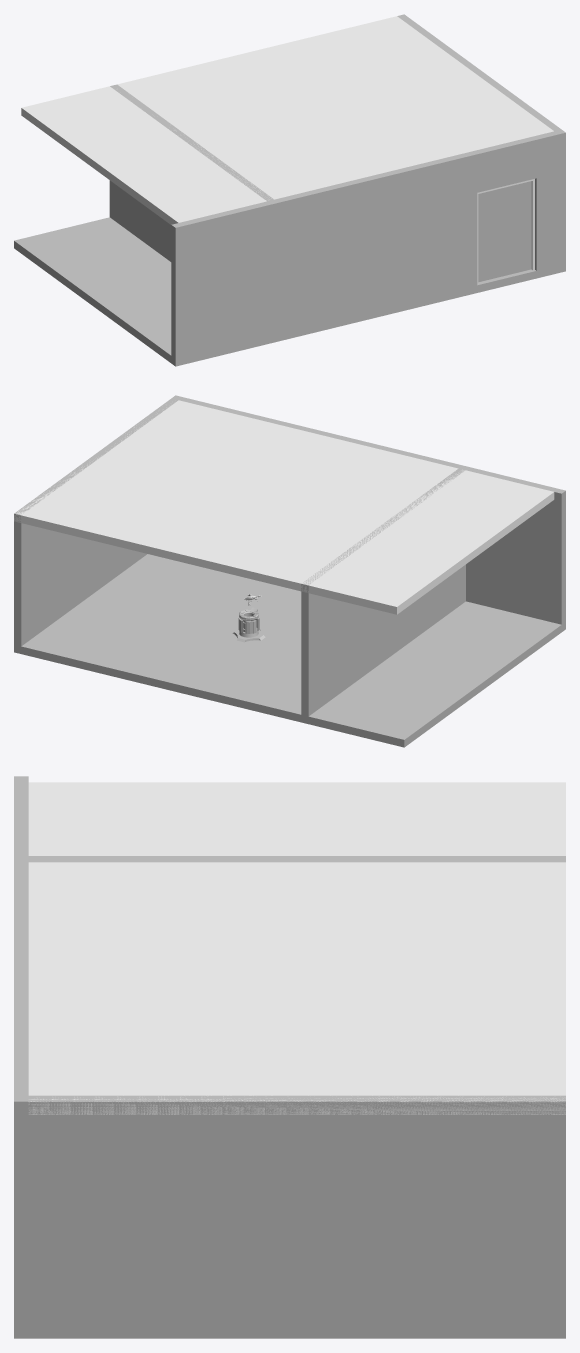
File: Scene_Wallpaper.fbx
3 renders of one model, top to bottom at view 1: azimuth 30°, elevation 25°; view 2: azimuth 150°, elevation 25°; view 3: azimuth 270°, elevation 25°, orthographic. The views are drawn at different scales.
Visible parts, largest first — view 1: UModelerX_Object_3, UModelerX_Object_1, UModelerX_Object, UModelerX_Object_2, door, Jamb; view 2: UModelerX_Object_3, UModelerX_Object, UModelerX_Object_2, UModelerX_Object_1; view 3: UModelerX_Object_3, UModelerX_Object_2, UModelerX_Object_1, UModelerX_Object.
Part boxes in pixels (x1,y1,x2,y2): UModelerX_Object_3: [21, 16, 553, 224]; UModelerX_Object_1: [171, 129, 565, 358]; UModelerX_Object: [14, 217, 565, 366]; UModelerX_Object_2: [109, 14, 561, 261]; door: [478, 181, 531, 282]; Jamb: [477, 179, 534, 283]; UModelerX_Object_3: [14, 400, 554, 614]; UModelerX_Object: [14, 554, 565, 747]; UModelerX_Object_2: [14, 398, 465, 716]; UModelerX_Object_1: [171, 395, 565, 624]; UModelerX_Object_3: [28, 782, 565, 1114]; UModelerX_Object_2: [28, 856, 565, 1325]; UModelerX_Object_1: [14, 776, 28, 1325]; UModelerX_Object: [14, 1325, 565, 1338].
Bounding box in the file's own units: 1325 × 450 × 950.
